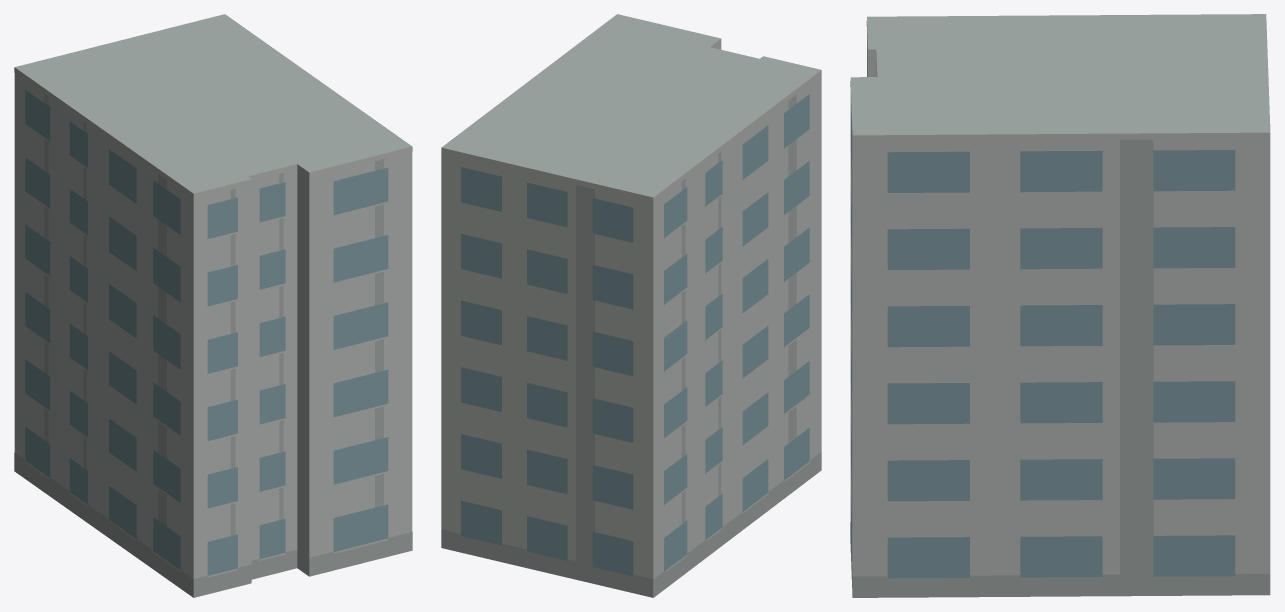
The model's file is survey-upis-32696364.glb.
The picture shows the model from 3 angles, left to right: view 1: azimuth 30°, elevation 25°; view 2: azimuth 150°, elevation 25°; view 3: azimuth 270°, elevation 25°; orthographic projection. The views are drawn at different scales.
Visible parts, largest first — view 1: survey-upis-32696364.tmp; view 2: survey-upis-32696364.tmp; view 3: survey-upis-32696364.tmp.
Part boxes in pixels (box(x1,y1,x2,y2)): survey-upis-32696364.tmp: box(14, 14, 412, 597); survey-upis-32696364.tmp: box(441, 14, 821, 597); survey-upis-32696364.tmp: box(850, 14, 1270, 597).
Size of the model in its own units: 10.31 by 18.3 by 15.07.
